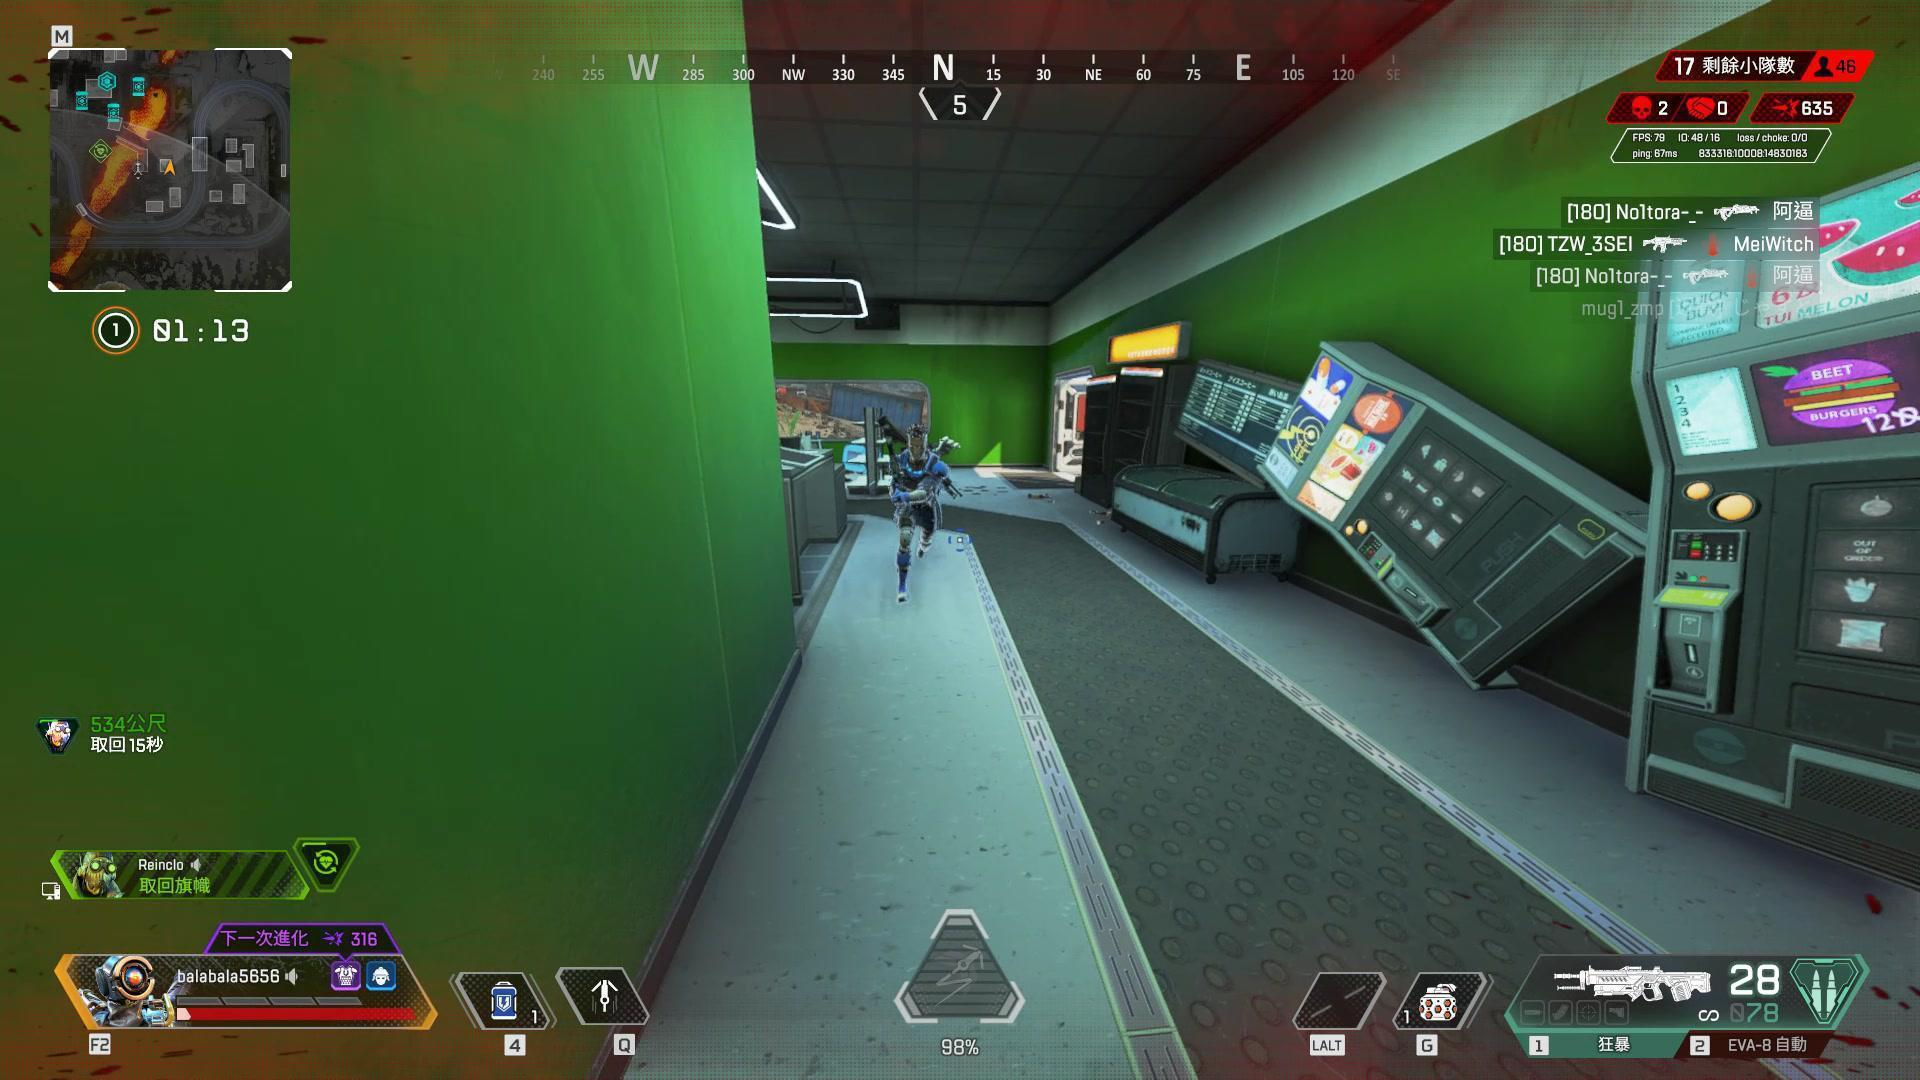avatar: (886, 427, 948, 602)
